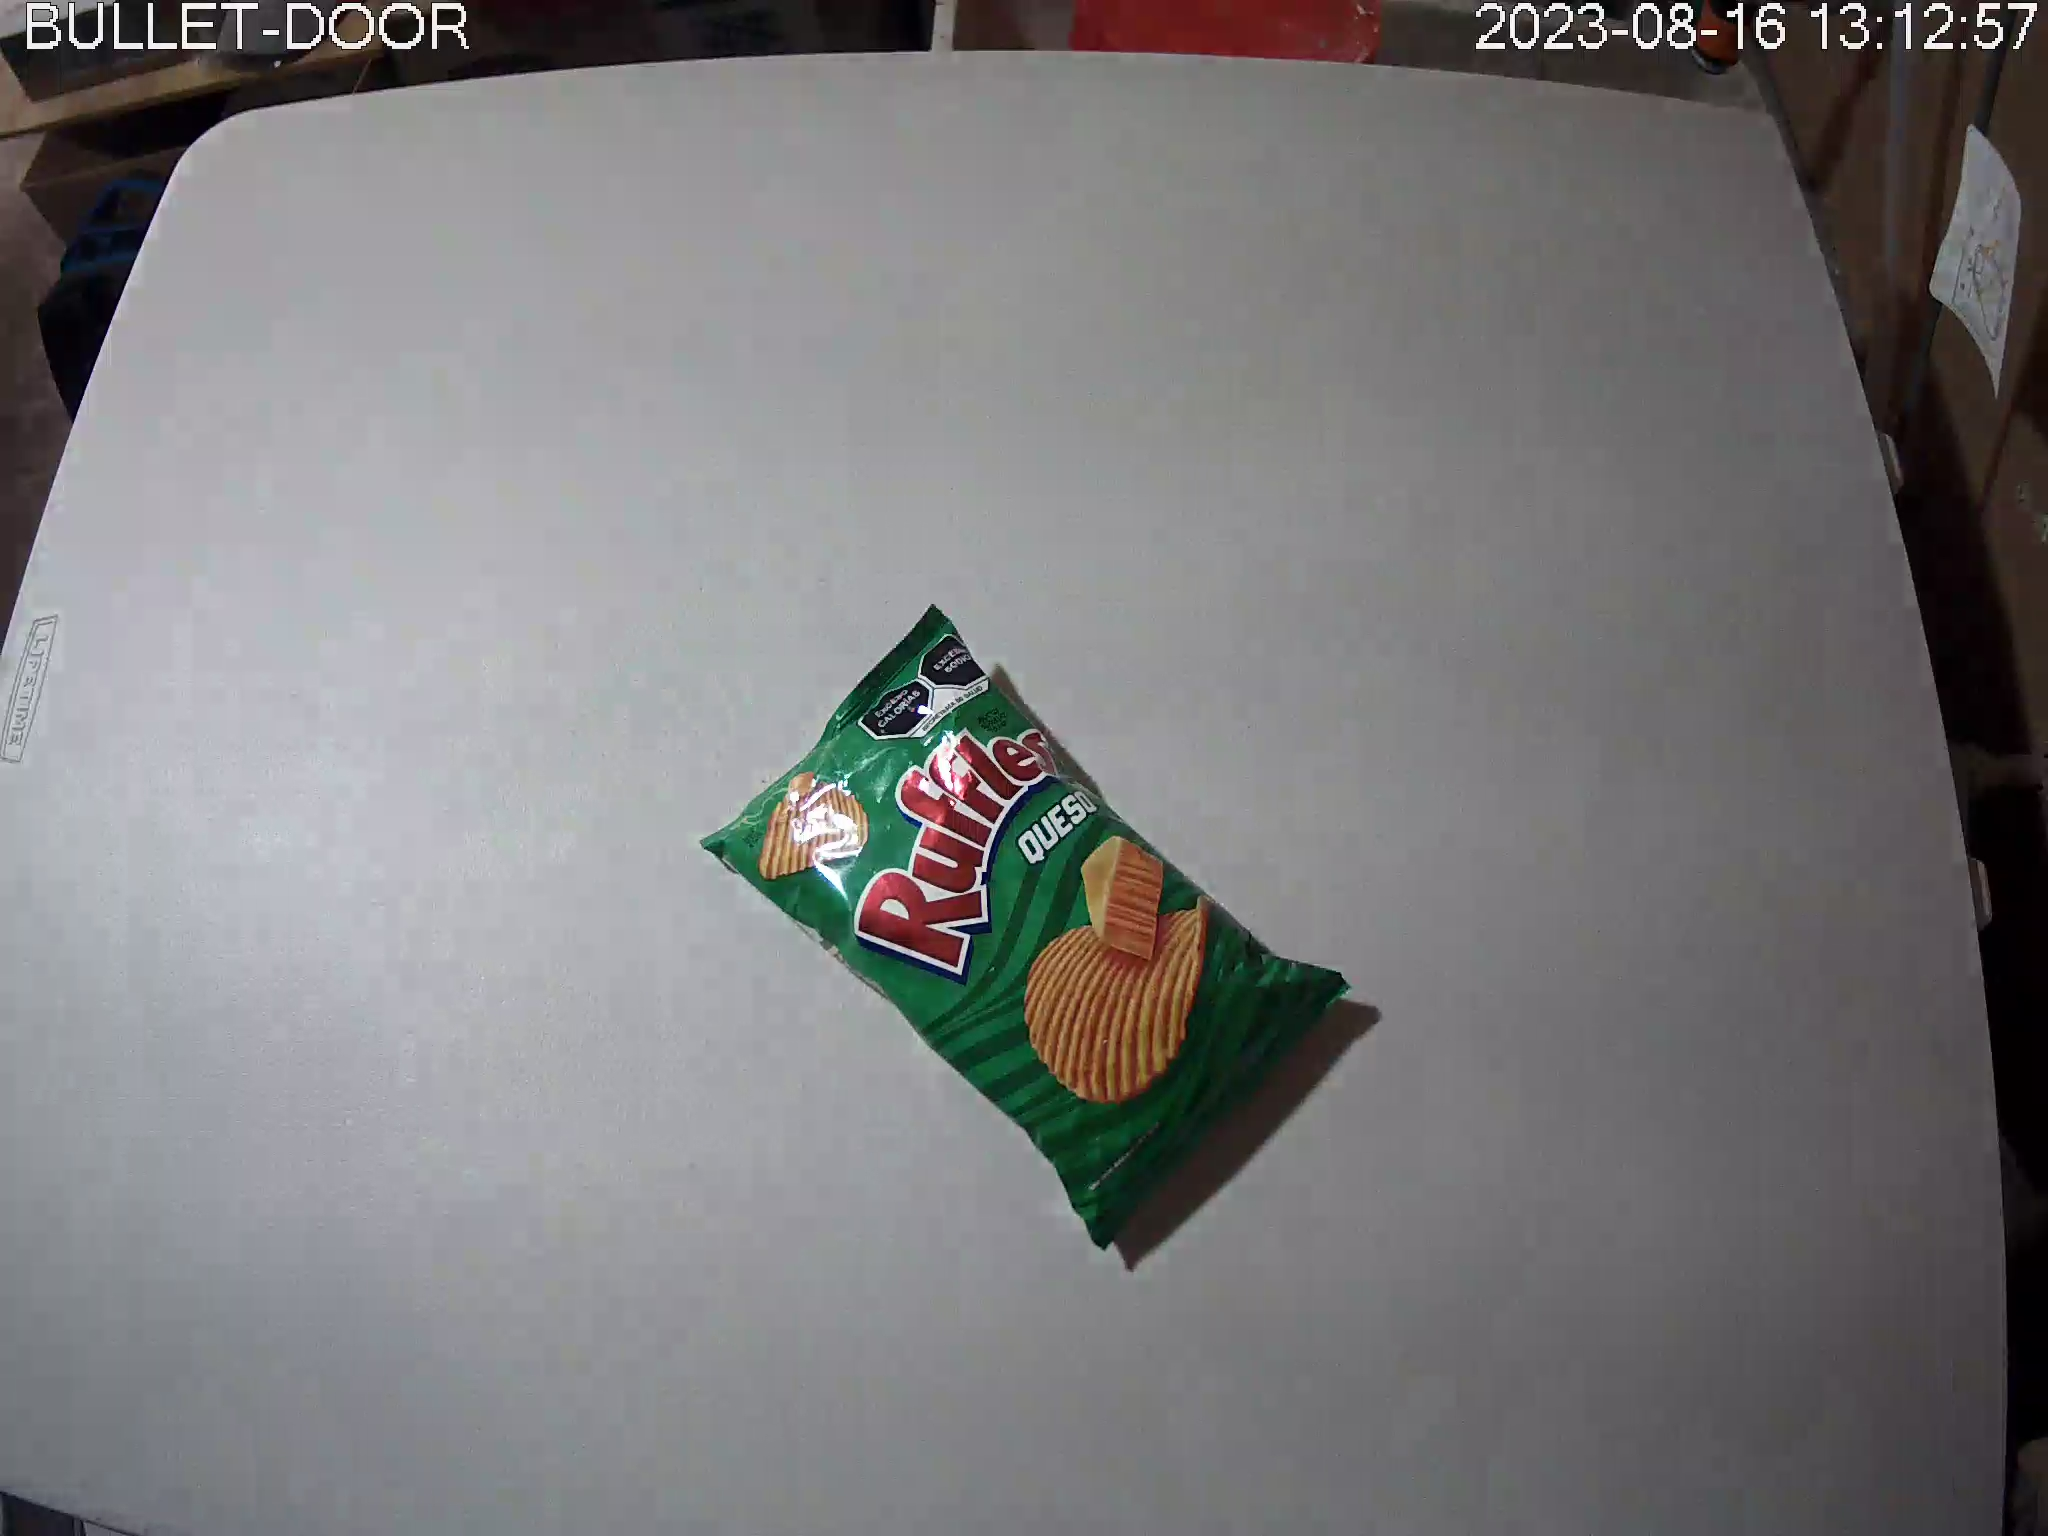RufflesQ_48_F: (698, 599, 1353, 1252)
